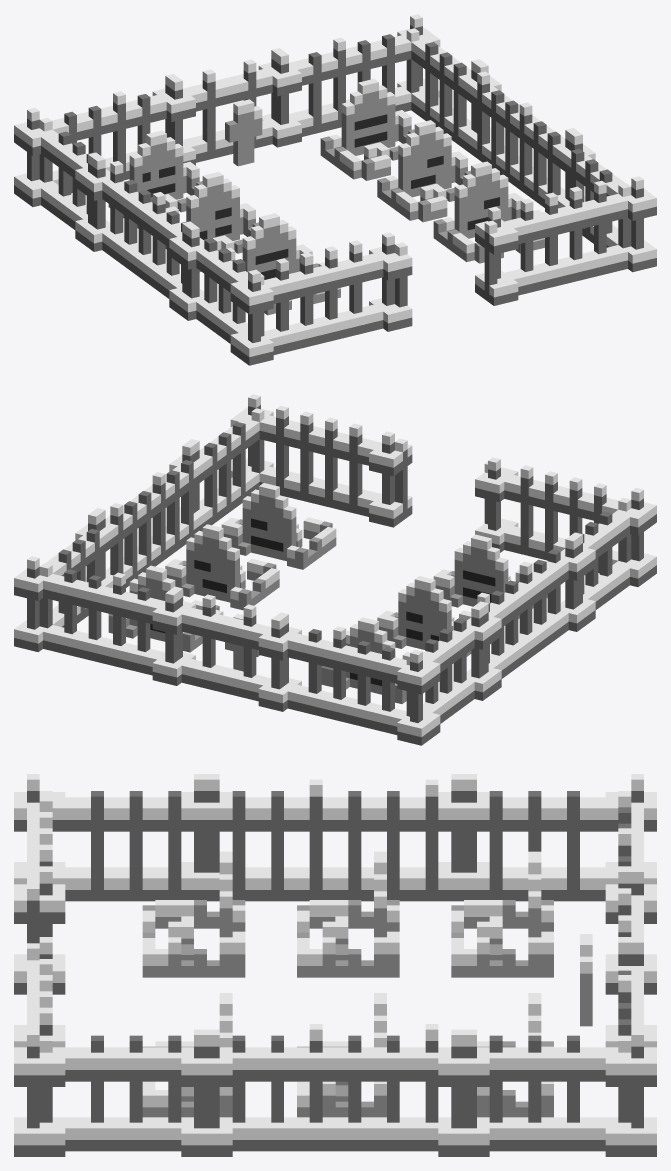
File: graveyard.obj
3 views of the same model, one above another, from view 1: azimuth 30°, elevation 25°; view 2: azimuth 150°, elevation 25°; view 3: azimuth 270°, elevation 25° (orthographic). The views are drawn at different scales.
Bounding box in the file's own units: 5 × 1 × 5.
Materials: 1 (1 with a texture image).
